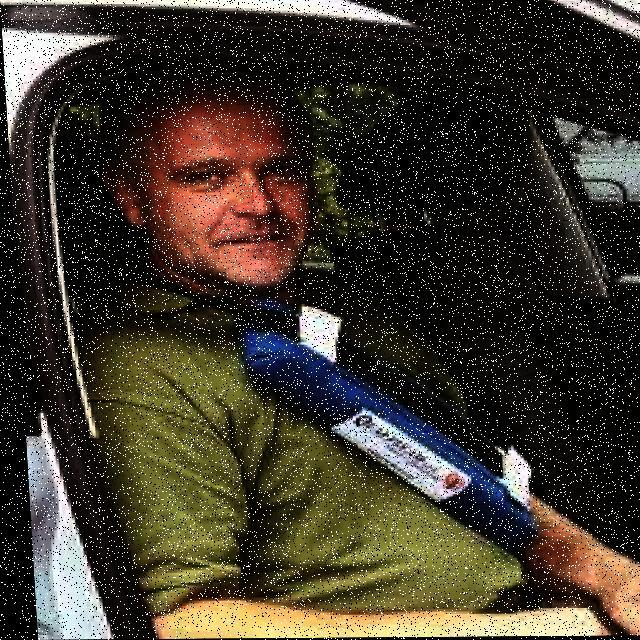seatbelt: (75, 306, 520, 604)
